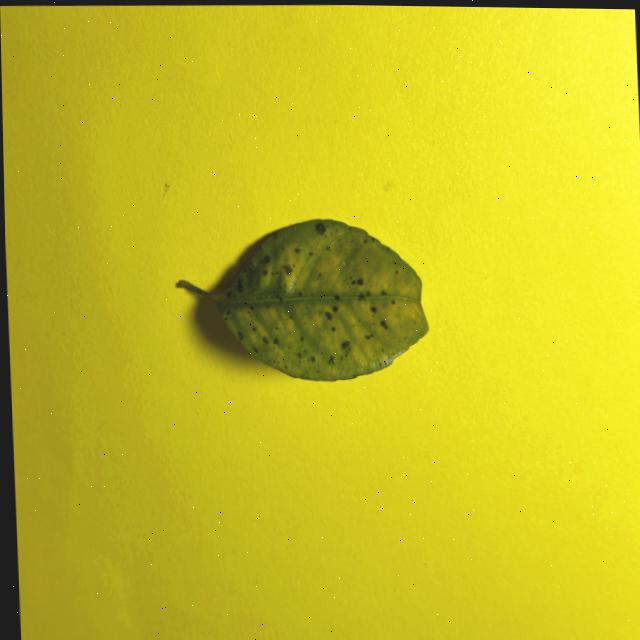sooty_mold: (177, 219, 427, 381)
